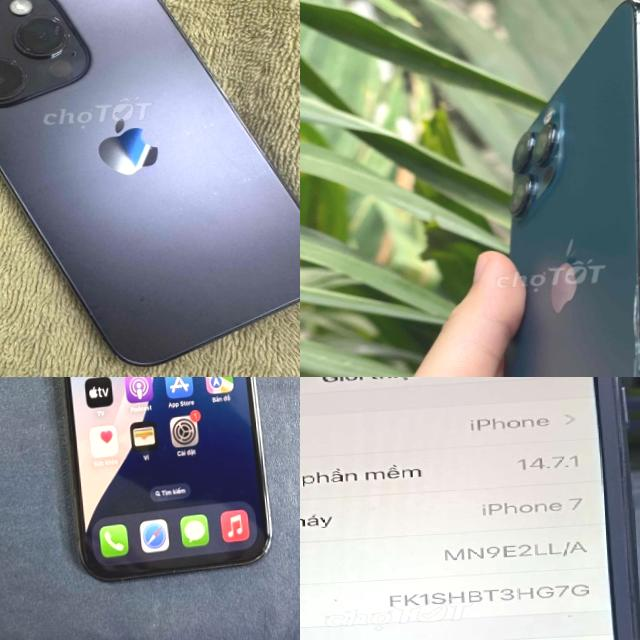gen_12_13: (457, 0, 640, 377), (36, 377, 278, 587)
gen_14: (0, 0, 300, 377)
gen_7_8: (300, 377, 640, 640)
